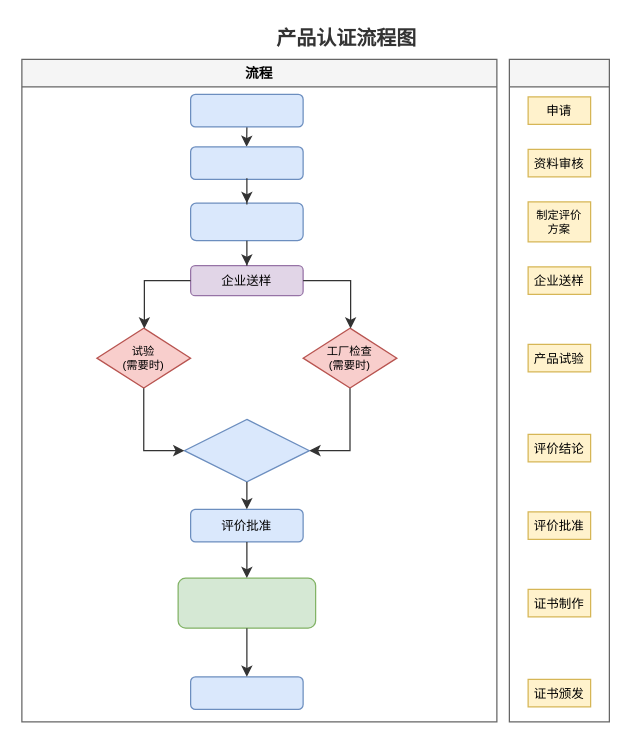
This 631x744 diagram has some shape labels left out. Here are the shapes that lost their labels. From the top down, the box of each, then its label:
(189, 93, 303, 127): 认证申请
(189, 146, 303, 179): 申请评审
(189, 202, 303, 241): 制定认证方案
(508, 58, 609, 722): 节点
(183, 418, 309, 482): 报告复核 及技术评定
(177, 577, 316, 628): 换发证书 或发放变更确认通知单
(189, 676, 303, 709): 数据报送
